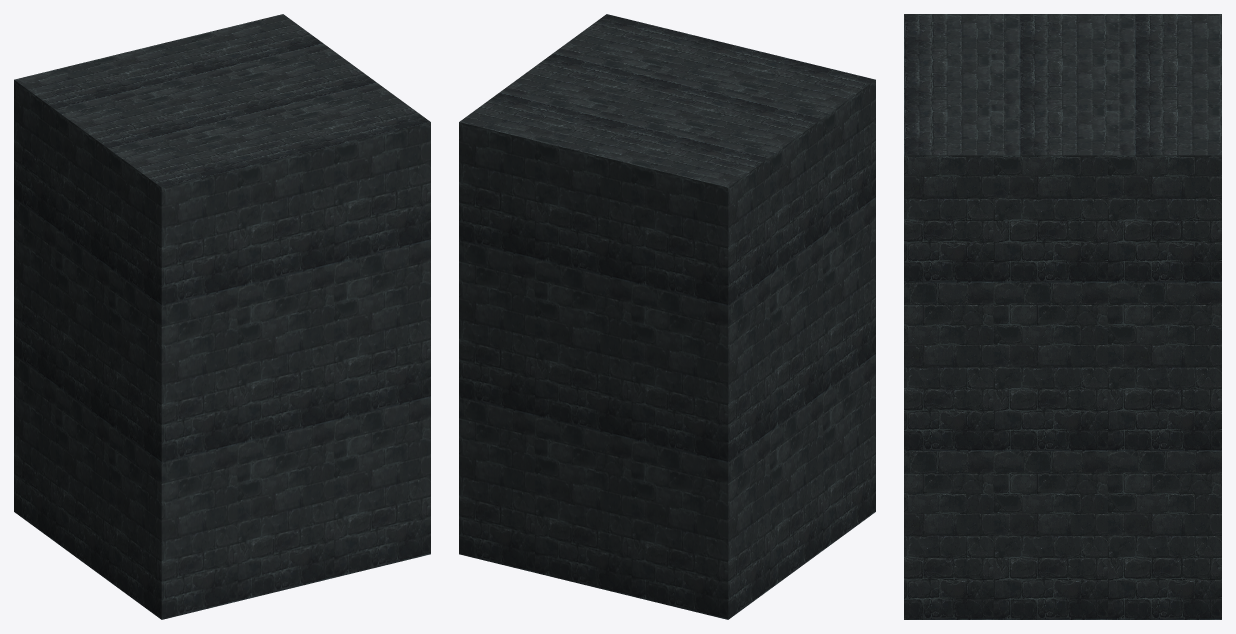
File: common_underground_boxqiangbi.FBX
3 views of the same model, side by side, from view 1: azimuth 30°, elevation 25°; view 2: azimuth 150°, elevation 25°; view 3: azimuth 270°, elevation 25° (orthographic). The views are drawn at different scales.
Parts seen in each view (by area): view 1: common_underground_boxqiangbi; view 2: common_underground_boxqiangbi; view 3: common_underground_boxqiangbi.
Boxes of the visible parts, <box> form: common_underground_boxqiangbi: <box>14,14,430,619</box>; common_underground_boxqiangbi: <box>459,14,875,619</box>; common_underground_boxqiangbi: <box>904,14,1221,619</box>.
Size of the model in its own units: 21.8 by 20.72 by 33.44.
